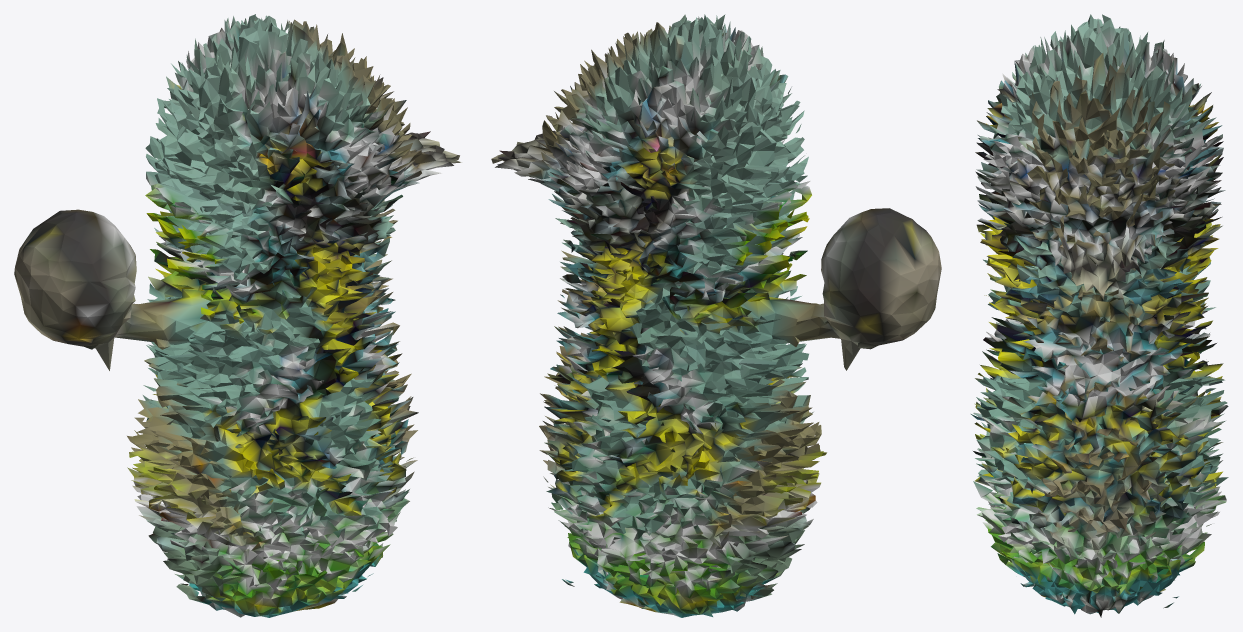
File: kraken.glb
3 views of the same model, side by side, from view 1: azimuth 30°, elevation 25°; view 2: azimuth 150°, elevation 25°; view 3: azimuth 270°, elevation 25° (orthographic). The views are drawn at different scales.
Visible parts, largest first — view 1: world; view 2: world; view 3: world.
Boxes of the visible parts, x1=… form: world: x1=14, y1=14, x2=461, y2=617; world: x1=491, y1=14, x2=941, y2=617; world: x1=971, y1=14, x2=1228, y2=617.
Size of the model in its own units: 0.7683 by 1 by 0.405.
